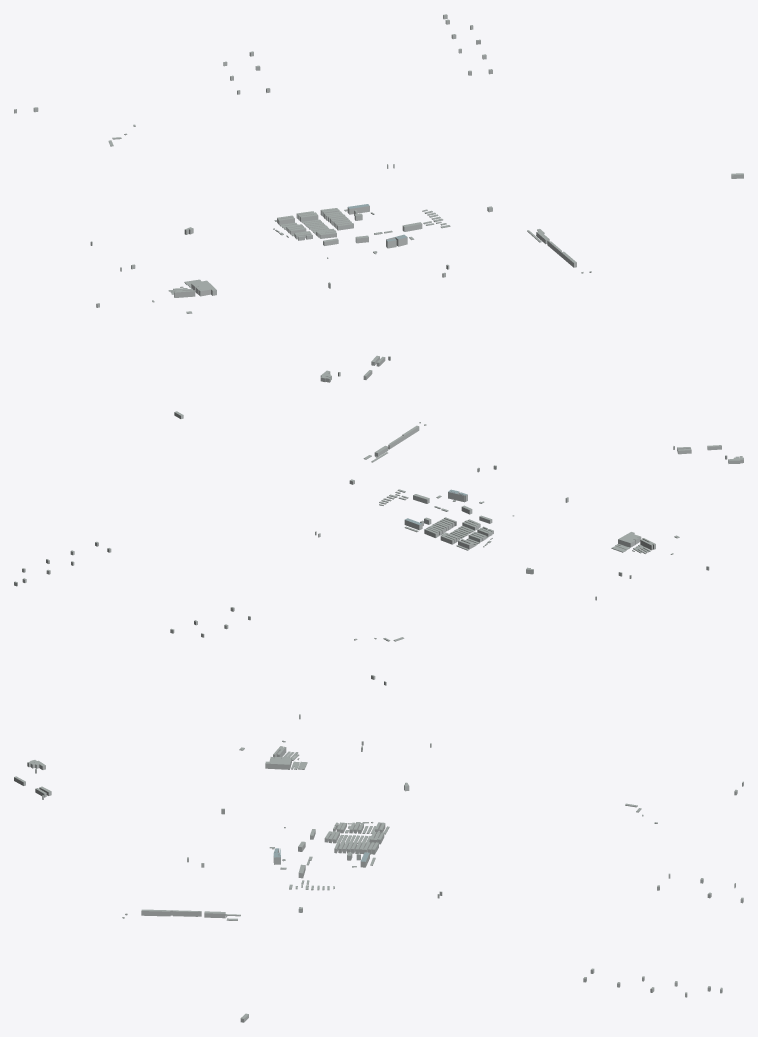
File: far.glb
3 renders of one model, top to bottom at view 1: azimuth 30°, elevation 25°; view 2: azimuth 150°, elevation 25°; view 3: azimuth 270°, elevation 25°, orthographic. The views are drawn at different scales.
Bounding box in the file's own units: 2044 × 22.9 × 2069.
